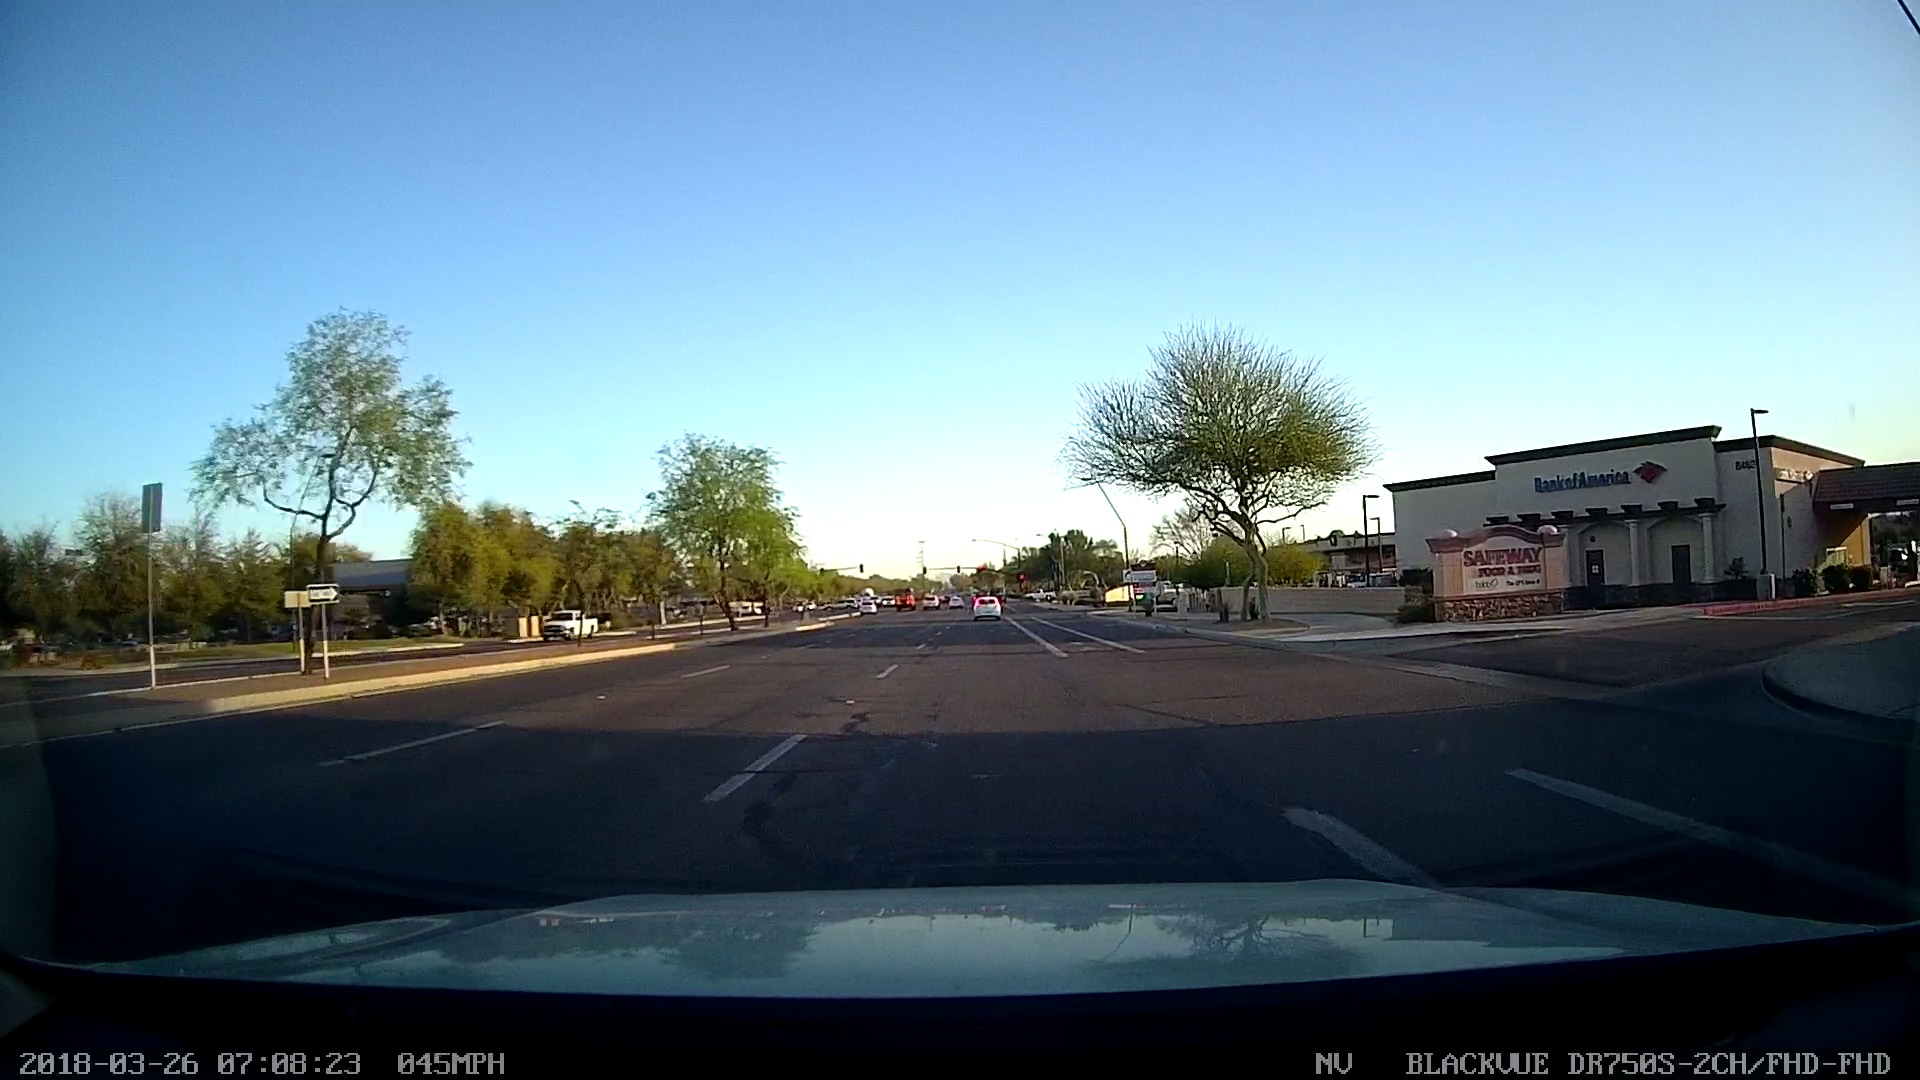vehicle: (531, 601, 611, 646), (971, 589, 1000, 618)
